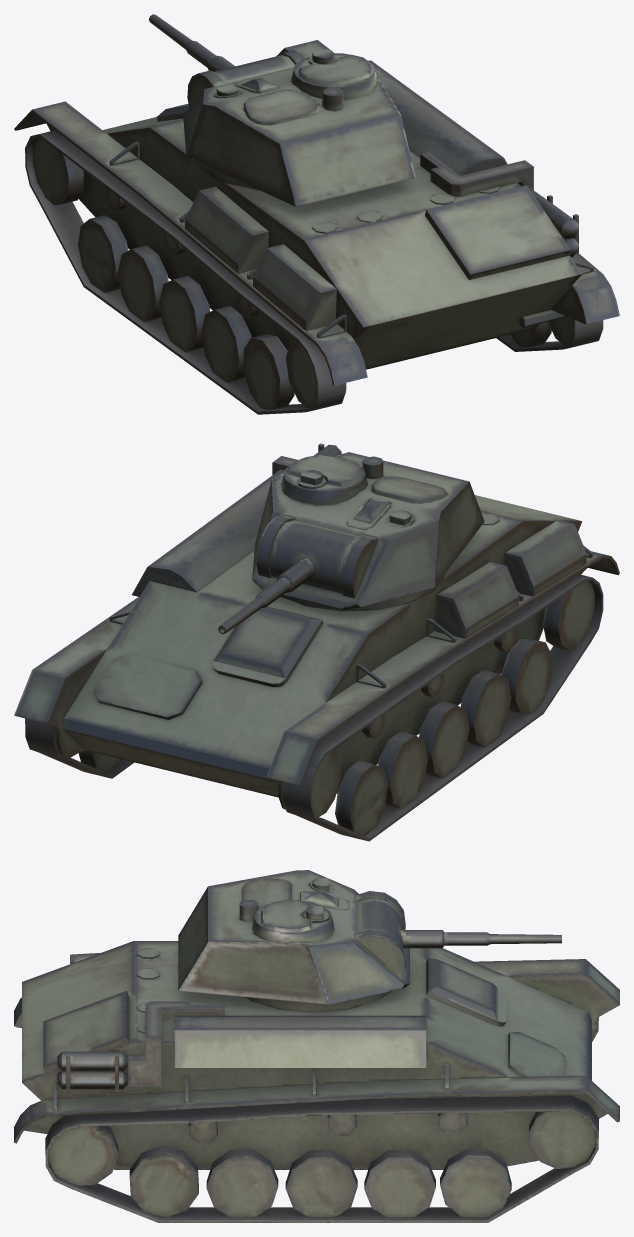
The picture shows the model from 3 angles, top to bottom: view 1: azimuth 30°, elevation 25°; view 2: azimuth 150°, elevation 25°; view 3: azimuth 270°, elevation 25°; orthographic projection. The views are drawn at different scales.
Parts seen in each view (by area): view 1: T-80 Hull, T-80 Turret; view 2: T-80 Hull, T-80 Turret; view 3: T-80 Hull, T-80 Turret.
Boxes of the visible parts, x1=… form: T-80 Hull: x1=14, y1=40, x2=619, y2=414; T-80 Turret: x1=149, y1=14, x2=415, y2=206; T-80 Hull: x1=14, y1=443, x2=619, y2=841; T-80 Turret: x1=218, y1=452, x2=484, y2=634; T-80 Hull: x1=14, y1=941, x2=619, y2=1222; T-80 Turret: x1=178, y1=870, x2=561, y2=1012.
Bounding box in the file's own units: 2.32 × 2.05 × 4.5.
